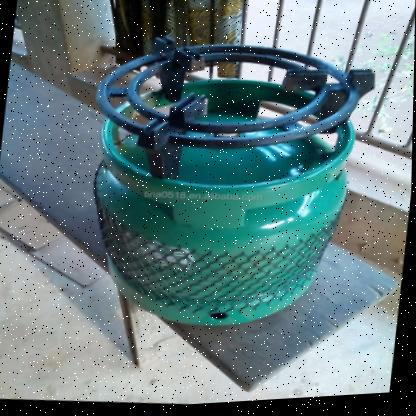gas-tank: (63, 56, 366, 355)
